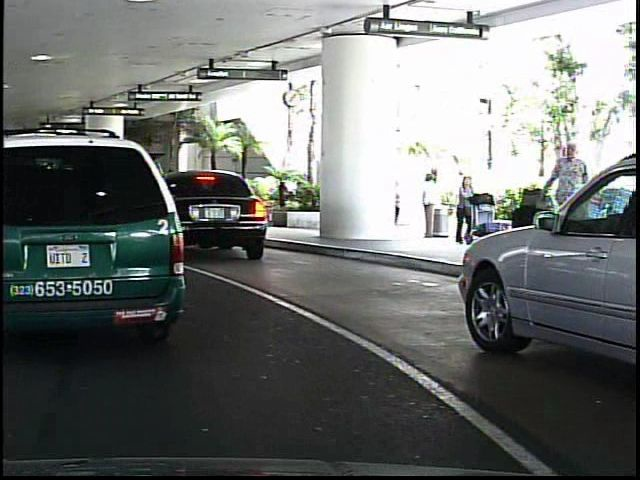person: (540, 133, 594, 282), (447, 172, 477, 248)
